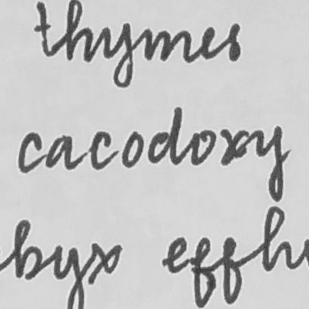a: (45, 132, 76, 172)
c: (15, 130, 45, 175), (88, 129, 117, 171)
d: (146, 105, 185, 166)
o: (188, 128, 217, 167), (119, 130, 145, 169)
x: (218, 126, 251, 167)
y: (252, 124, 289, 204)
